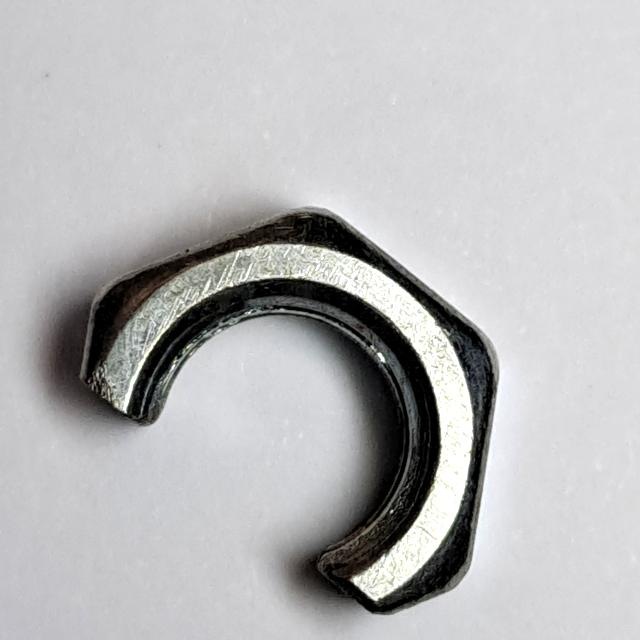Fracture: (70, 194, 508, 626)
